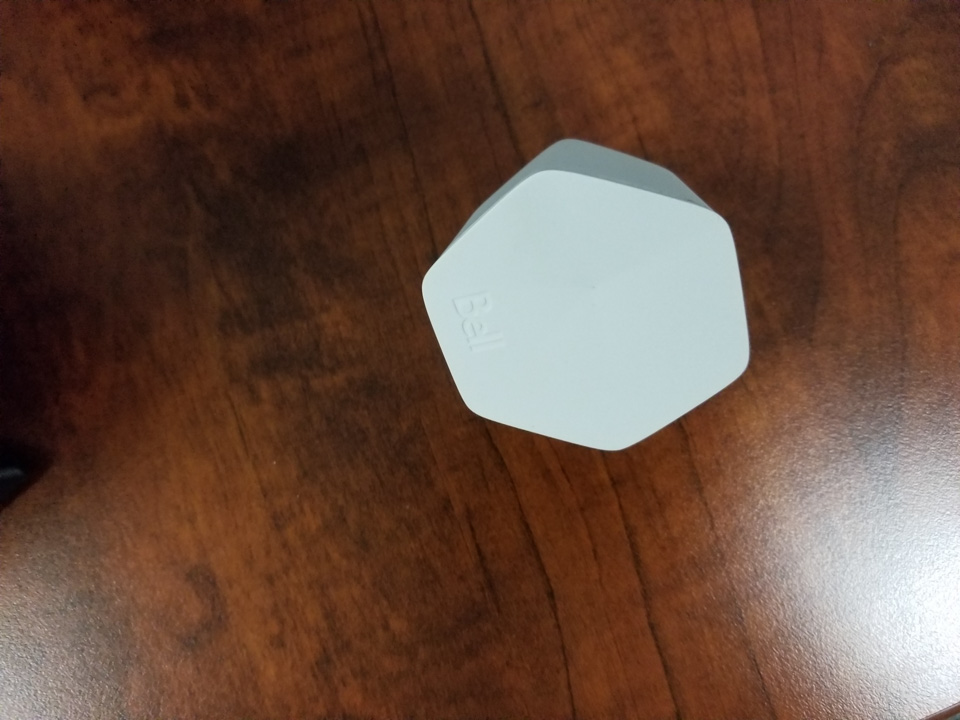pod: (415, 134, 769, 458)
